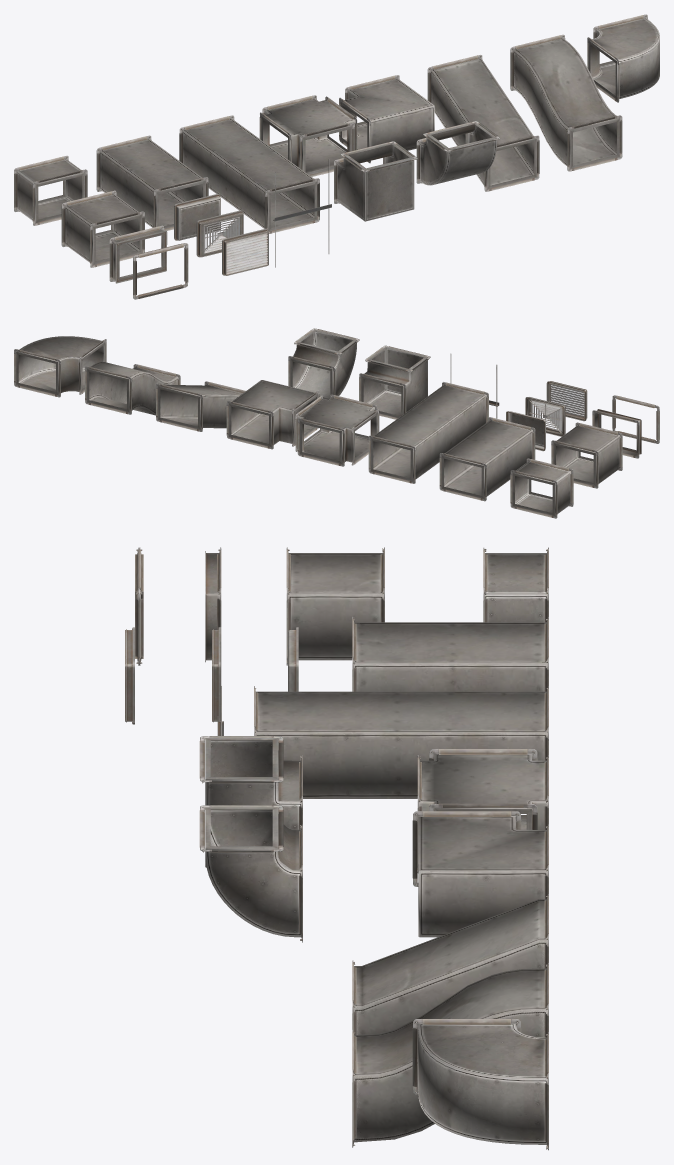
Rendered from modular_airduct_rectangular_01.glb.
3 views of the same model, one above another, from view 1: azimuth 30°, elevation 25°; view 2: azimuth 150°, elevation 25°; view 3: azimuth 270°, elevation 25° (orthographic). The views are drawn at different scales.
Parts seen in each view (by area): view 1: modular_airduct_rectangular_01_tripple_01, modular_airduct_rectangular_01_transition_double_02, modular_airduct_rectangular_01_transition_double_01, modular_airduct_rectangular_01_double_01, modular_airduct_rectangular_01_splitter_01, modular_airduct_rectangular_01_corner_01, modular_airduct_rectangular_01_corner_02, modular_airduct_rectangular_01_bend_02, modular_airduct_rectangular_01_single_01, modular_airduct_rectangular_01_bend_01, modular_airduct_rectangular_01_half_01, modular_airduct_rectangular_01_vent_01 (+4 smaller); view 2: modular_airduct_rectangular_01_tripple_01, modular_airduct_rectangular_01_double_01, modular_airduct_rectangular_01_splitter_01, modular_airduct_rectangular_01_corner_02, modular_airduct_rectangular_01_bend_02, modular_airduct_rectangular_01_corner_01, modular_airduct_rectangular_01_bend_01, modular_airduct_rectangular_01_transition_double_02, modular_airduct_rectangular_01_single_01, modular_airduct_rectangular_01_transition_double_01, modular_airduct_rectangular_01_half_01, modular_airduct_rectangular_01_vent_01 (+4 smaller); view 3: modular_airduct_rectangular_01_tripple_01, modular_airduct_rectangular_01_bend_02, modular_airduct_rectangular_01_corner_02, modular_airduct_rectangular_01_double_01, modular_airduct_rectangular_01_transition_double_01, modular_airduct_rectangular_01_transition_double_02, modular_airduct_rectangular_01_bend_01, modular_airduct_rectangular_01_single_01, modular_airduct_rectangular_01_splitter_01, modular_airduct_rectangular_01_corner_01, modular_airduct_rectangular_01_half_01, modular_airduct_rectangular_01_connector_01 (+3 smaller).
Part boxes in pixels (x1=…): modular_airduct_rectangular_01_tripple_01: x1=179, y1=115, x2=319, y2=233; modular_airduct_rectangular_01_transition_double_02: x1=510, y1=34, x2=622, y2=171; modular_airduct_rectangular_01_transition_double_01: x1=427, y1=54, x2=539, y2=191; modular_airduct_rectangular_01_double_01: x1=96, y1=135, x2=208, y2=230; modular_airduct_rectangular_01_splitter_01: x1=259, y1=95, x2=357, y2=176; modular_airduct_rectangular_01_corner_01: x1=334, y1=141, x2=417, y2=221; modular_airduct_rectangular_01_corner_02: x1=339, y1=75, x2=434, y2=163; modular_airduct_rectangular_01_bend_02: x1=587, y1=14, x2=659, y2=102; modular_airduct_rectangular_01_single_01: x1=61, y1=190, x2=144, y2=267; modular_airduct_rectangular_01_bend_01: x1=416, y1=121, x2=499, y2=185; modular_airduct_rectangular_01_half_01: x1=14, y1=155, x2=87, y2=225; modular_airduct_rectangular_01_vent_01: x1=222, y1=228, x2=268, y2=275; modular_airduct_rectangular_01_tripple_01: x1=368, y1=382, x2=488, y2=483; modular_airduct_rectangular_01_double_01: x1=439, y1=417, x2=535, y2=501; modular_airduct_rectangular_01_splitter_01: x1=295, y1=394, x2=379, y2=466; modular_airduct_rectangular_01_corner_02: x1=226, y1=380, x2=319, y2=449; modular_airduct_rectangular_01_bend_02: x1=14, y1=336, x2=106, y2=397; modular_airduct_rectangular_01_corner_01: x1=359, y1=345, x2=430, y2=419; modular_airduct_rectangular_01_bend_01: x1=288, y1=328, x2=359, y2=399; modular_airduct_rectangular_01_transition_double_02: x1=85, y1=362, x2=180, y2=415; modular_airduct_rectangular_01_single_01: x1=551, y1=422, x2=622, y2=488; modular_airduct_rectangular_01_transition_double_01: x1=156, y1=381, x2=245, y2=431; modular_airduct_rectangular_01_half_01: x1=510, y1=458, x2=573, y2=518; modular_airduct_rectangular_01_vent_01: x1=546, y1=381, x2=587, y2=421; modular_airduct_rectangular_01_tripple_01: x1=254, y1=686, x2=548, y2=798; modular_airduct_rectangular_01_bend_02: x1=412, y1=1019, x2=548, y2=1150; modular_airduct_rectangular_01_corner_02: x1=412, y1=811, x2=548, y2=937; modular_airduct_rectangular_01_double_01: x1=352, y1=617, x2=548, y2=691; modular_airduct_rectangular_01_transition_double_01: x1=352, y1=894, x2=548, y2=1034; modular_airduct_rectangular_01_transition_double_02: x1=352, y1=963, x2=548, y2=1147; modular_airduct_rectangular_01_bend_01: x1=199, y1=805, x2=302, y2=942; modular_airduct_rectangular_01_single_01: x1=286, y1=547, x2=384, y2=665; modular_airduct_rectangular_01_splitter_01: x1=417, y1=749, x2=548, y2=873; modular_airduct_rectangular_01_corner_01: x1=199, y1=736, x2=302, y2=867; modular_airduct_rectangular_01_half_01: x1=483, y1=547, x2=548, y2=622; modular_airduct_rectangular_01_connector_01: x1=205, y1=547, x2=221, y2=662.
Size of the model in its own units: 7.66 by 1.26 by 2.59.
Materials: 2 (2 with a texture image).
